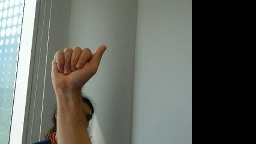Pugno: (46, 42, 108, 85)
